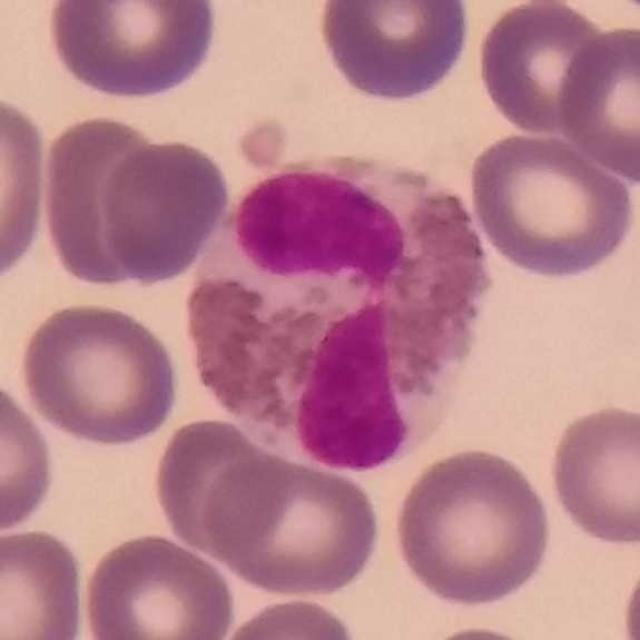Eosinophil: (179, 142, 501, 469)
Platelets: (235, 115, 294, 174)
RBC: (390, 442, 556, 612), (200, 449, 384, 601), (465, 128, 639, 283), (16, 297, 182, 450), (36, 110, 172, 292), (150, 413, 290, 561), (95, 135, 232, 286), (473, 0, 616, 138), (44, 0, 222, 104), (78, 530, 238, 640), (314, 0, 474, 106), (544, 399, 640, 550), (552, 22, 640, 183), (0, 86, 52, 290), (0, 524, 89, 640), (0, 374, 59, 536), (213, 594, 364, 640), (412, 620, 559, 640), (617, 545, 640, 639)
